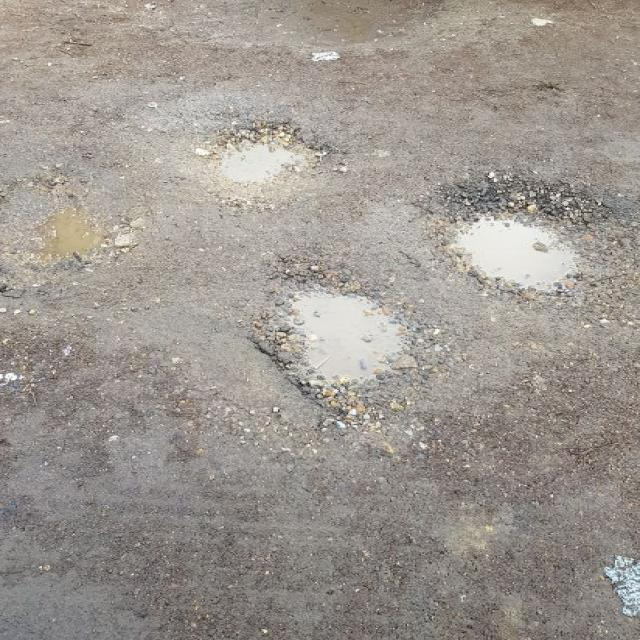pothole: (407, 163, 636, 301), (246, 264, 437, 416), (192, 115, 326, 203)
